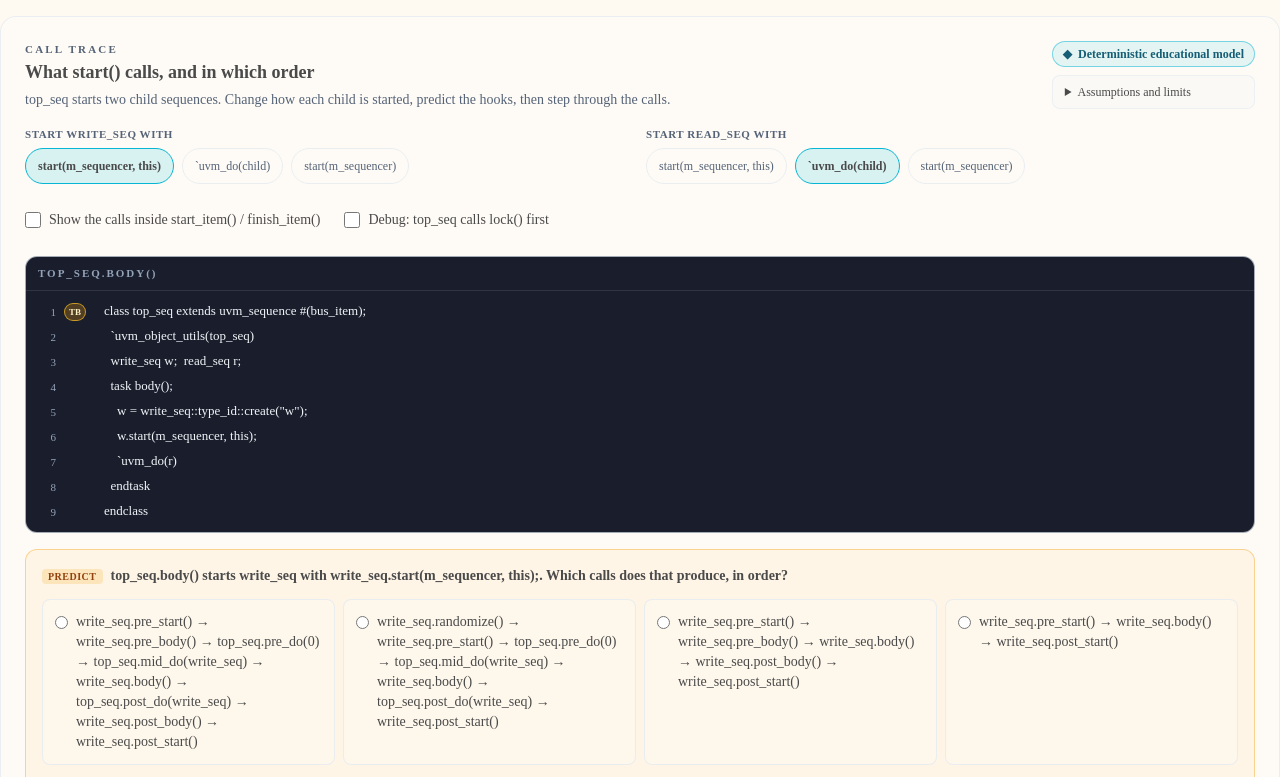
Scenario: UvmSequenceHierarchyVisualizer › item detail shows wait_for_grant and the item hooks; the playback is keyboard operable
Click the checkbox labelled "Show the calls inside start_item() / finish_item()": (33, 220) [25,212,41,228]
(page scrolled)
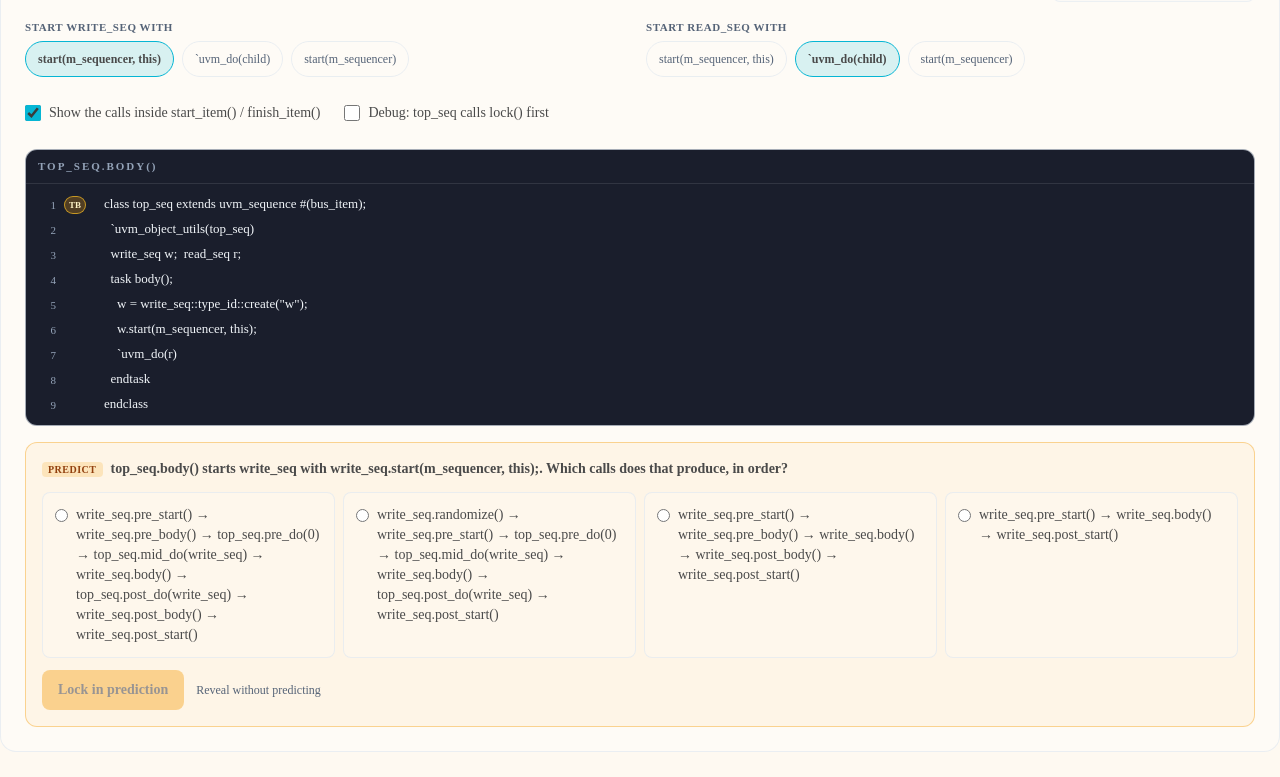
Click the button "Reveal without predicting": (258, 690) [196,682,321,698]
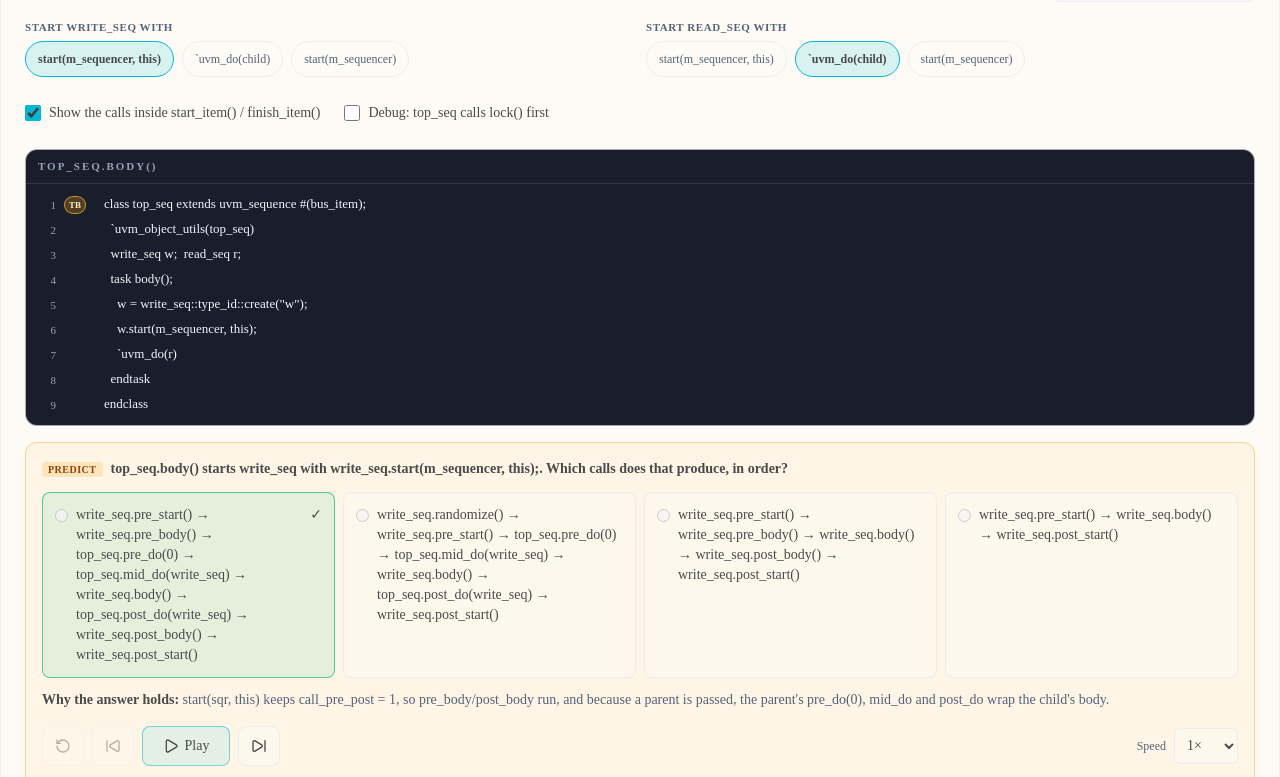
Press ArrowRight in the button named "Next call", box [238,726,280,766]
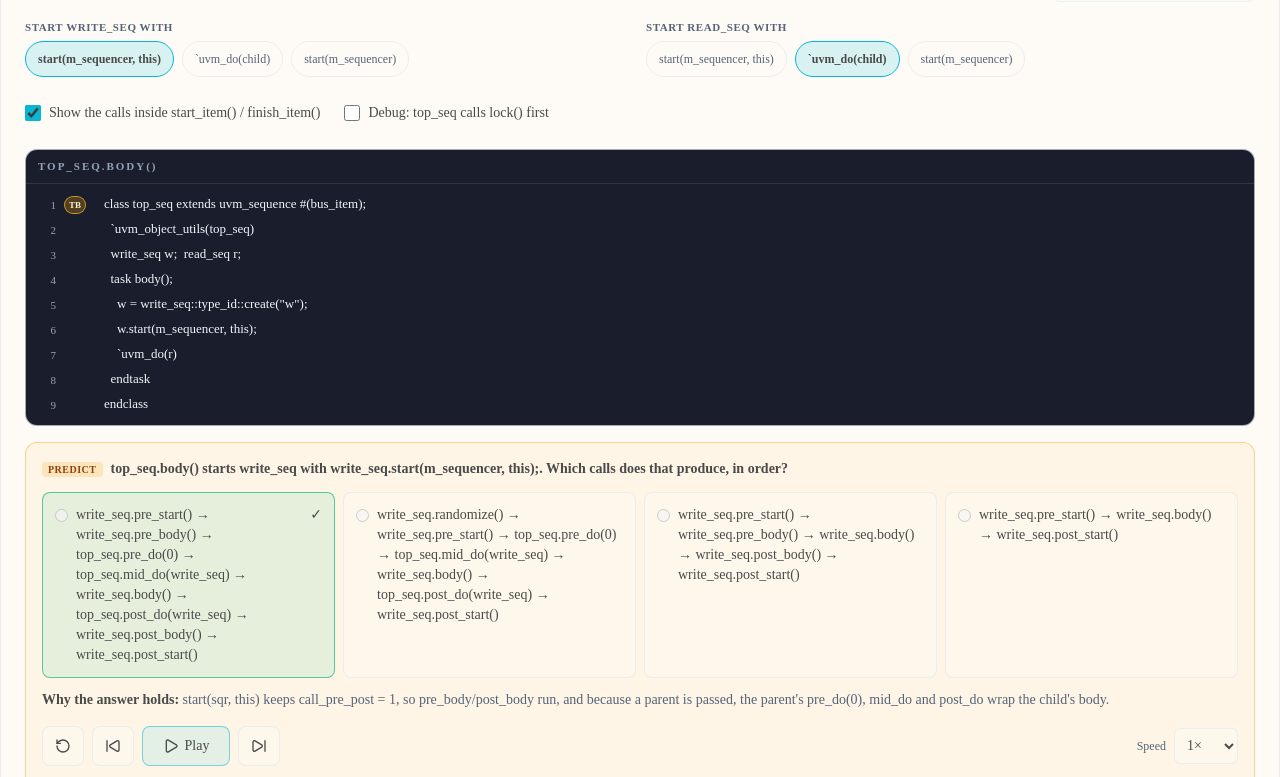
Press ArrowRight in the button named "Next call", box [238,726,280,766]
(page scrolled)
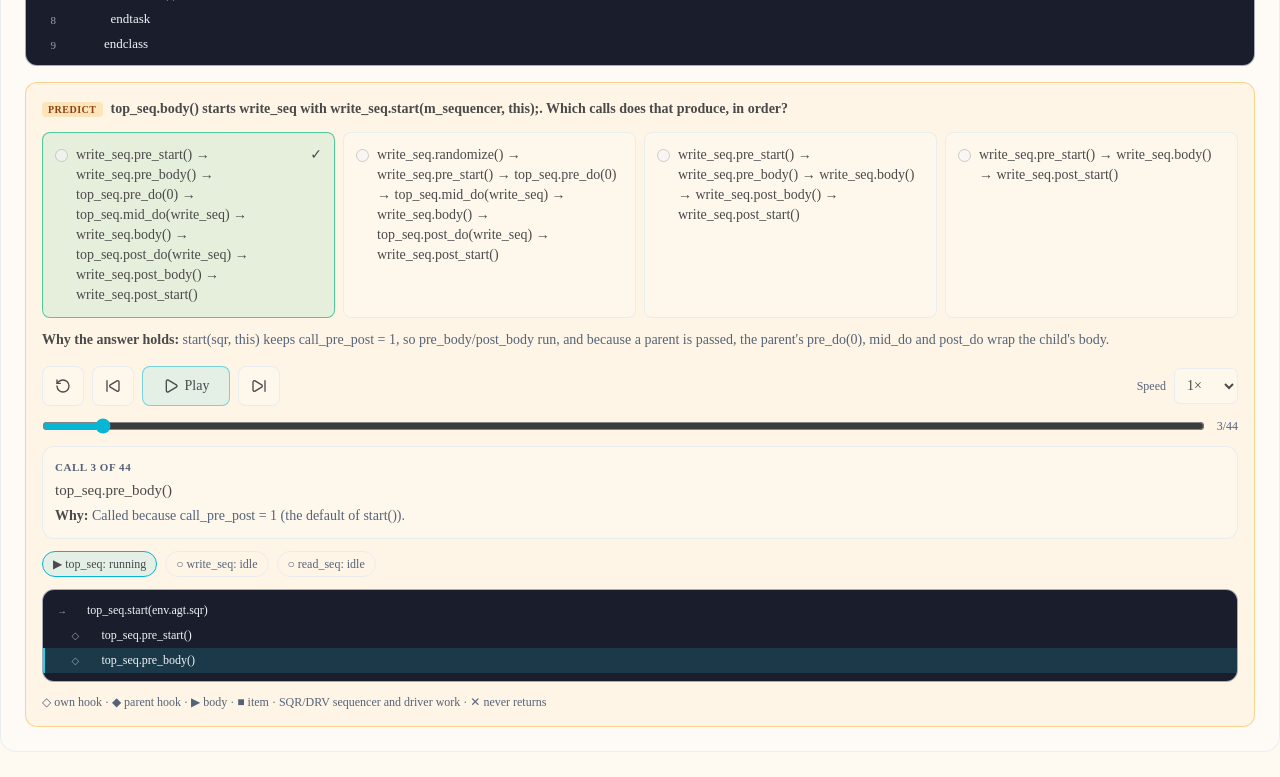
expect the text "call 3 of 44" is shown: met, box [55,460,131,472]
Set the slider to "999": (623, 426) [42,422,1205,430]
(page scrolled)
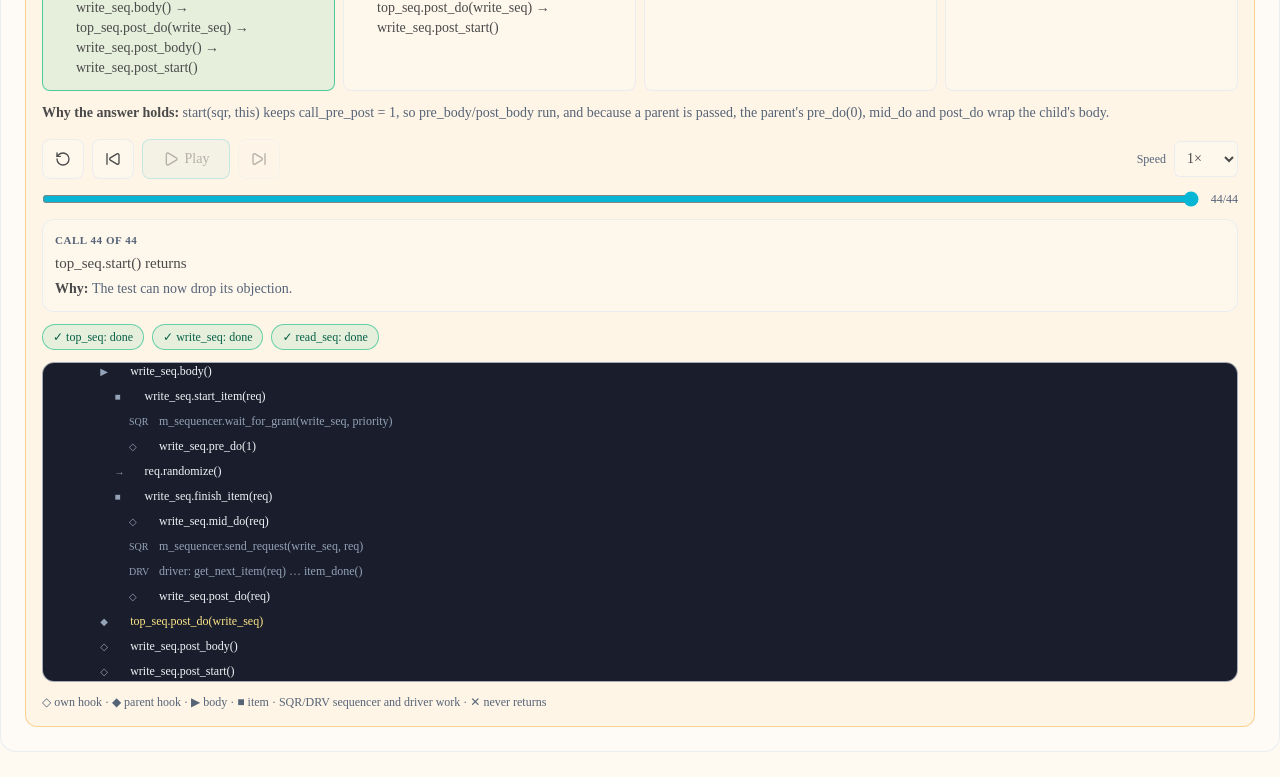
expect the number of list items "m_sequencer.wait_for_grant(write_seq, priority)" is 1: met, box [129,414,393,428]
expect the list item "write_seq.mid_do(req)" is shown: met, box [159,514,269,528]
